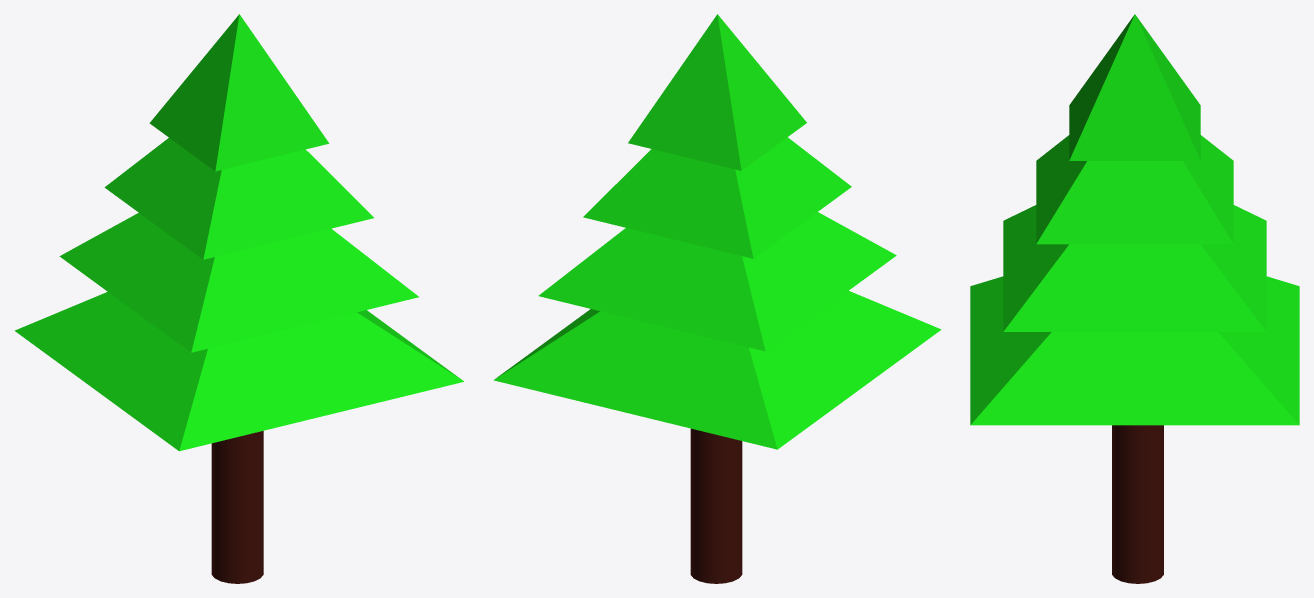
Rendered from Tree.FBX.
3 views of the same model, side by side, from view 1: azimuth 30°, elevation 25°; view 2: azimuth 150°, elevation 25°; view 3: azimuth 270°, elevation 25° (orthographic).
Parts seen in each view (by area): view 1: Pyramid004, Pyramid003, Pyramid002, Pyramid001, Cylinder001; view 2: Pyramid004, Pyramid003, Pyramid002, Pyramid001, Cylinder001; view 3: Pyramid004, Pyramid003, Pyramid002, Pyramid001, Cylinder001.
Part boxes in pixels (box(x1,y1,x2,y2)): Pyramid004: box(15, 292, 463, 451); Pyramid003: box(59, 213, 418, 352); Pyramid002: box(104, 138, 373, 259); Pyramid001: box(149, 14, 329, 171); Cylinder001: box(211, 431, 263, 583); Pyramid004: box(493, 291, 941, 449); Pyramid003: box(538, 212, 896, 351); Pyramid002: box(583, 137, 851, 258); Pyramid001: box(628, 14, 806, 170); Cylinder001: box(690, 428, 742, 583); Pyramid004: box(970, 276, 1299, 425); Pyramid003: box(1003, 205, 1266, 331); Pyramid002: box(1036, 135, 1233, 244); Pyramid001: box(1069, 14, 1200, 160); Cylinder001: box(1112, 425, 1163, 583).
Size of the model in its own units: 25 by 46.86 by 25.
